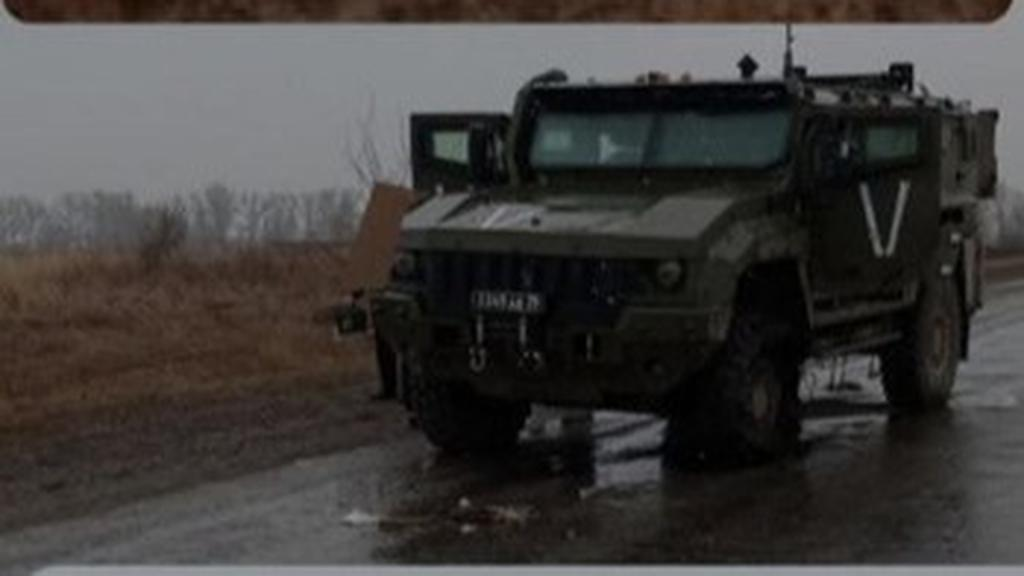CAR: (362, 54, 982, 462)
